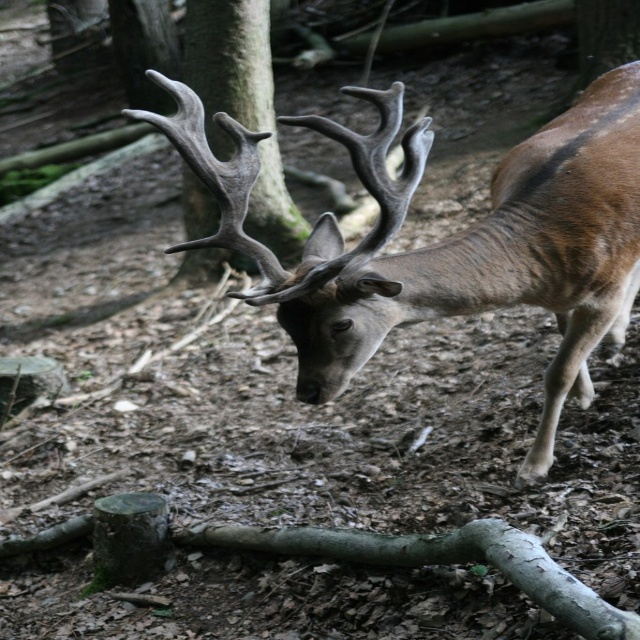Deer: (119, 59, 639, 487)
